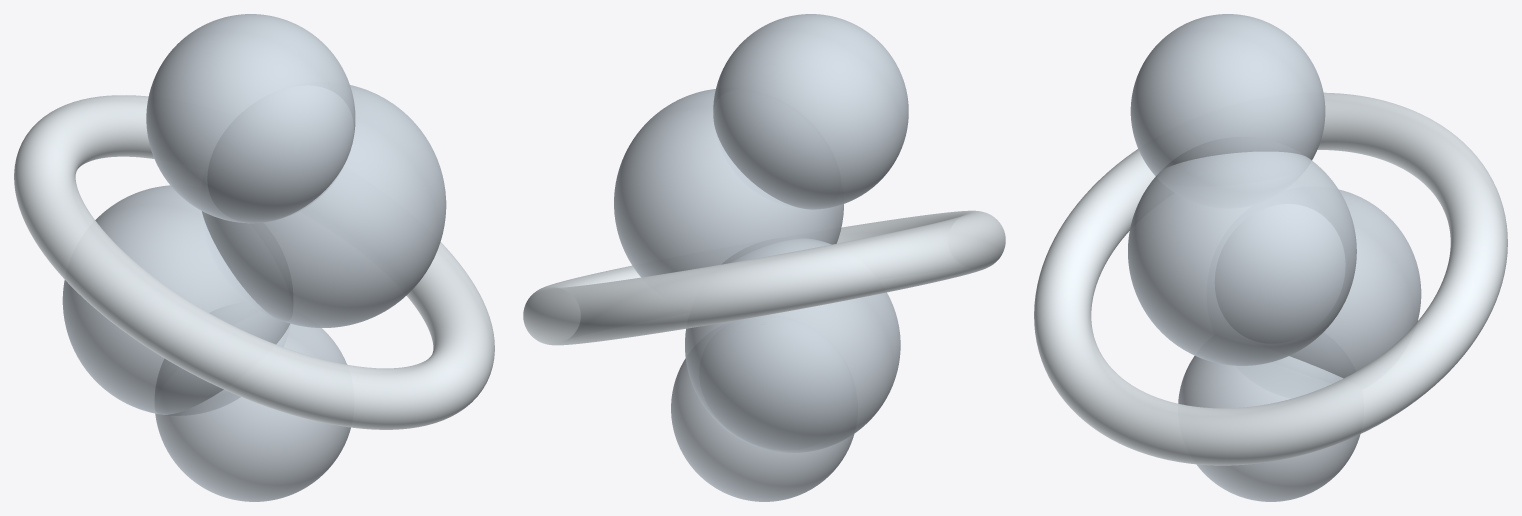
Rendered from buhar.glb.
3 views of the same model, side by side, from view 1: azimuth 30°, elevation 25°; view 2: azimuth 150°, elevation 25°; view 3: azimuth 270°, elevation 25° (orthographic). The views are drawn at different scales.
Bounding box in the file's own units: 0.0322 × 0.0353 × 0.0331.
